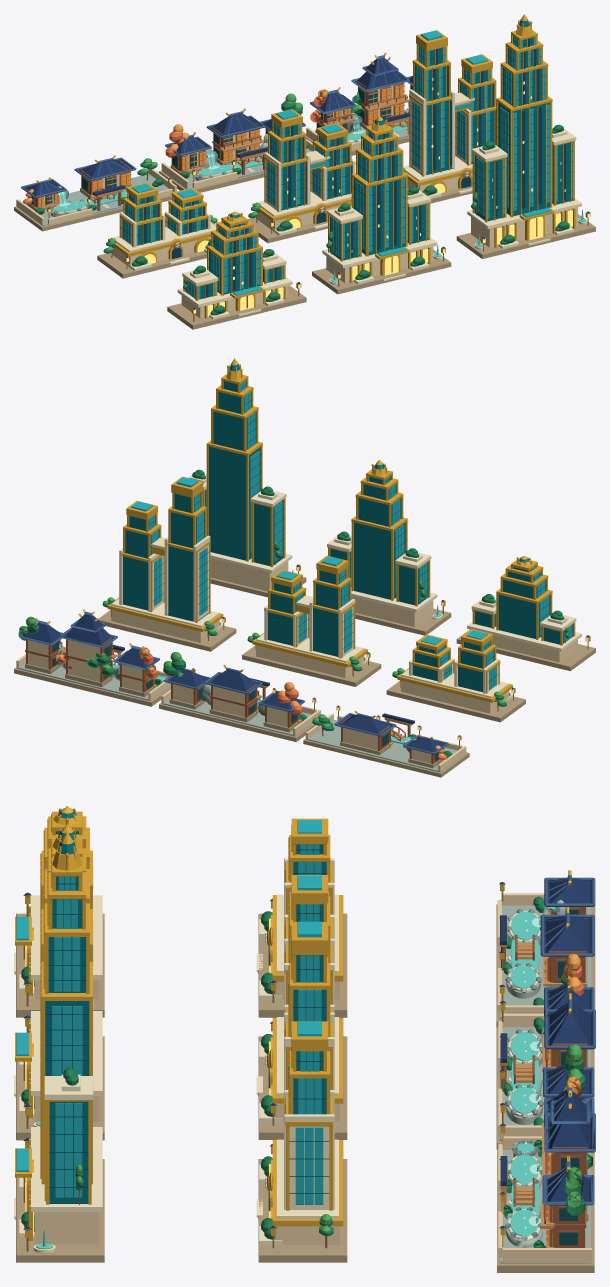
The model's file is landmarks.glb.
3 views of the same model, one above another, from view 1: azimuth 30°, elevation 25°; view 2: azimuth 150°, elevation 25°; view 3: azimuth 270°, elevation 25° (orthographic). The views are drawn at different scales.
Visible parts, largest first — view 1: skyscraper_3_geometry, skyscraper_2_geometry, finance_3_geometry, finance_2_geometry, skyscraper_1_geometry, finance_1_geometry, onsen_2_geometry, onsen_1_geometry, onsen_3_geometry; view 2: finance_3_geometry, skyscraper_3_geometry, skyscraper_2_geometry, finance_2_geometry, onsen_3_geometry, skyscraper_1_geometry, finance_1_geometry, onsen_2_geometry, onsen_1_geometry; view 3: skyscraper_3_geometry, finance_3_geometry, onsen_3_geometry, onsen_2_geometry, onsen_1_geometry, finance_1_geometry, finance_2_geometry, skyscraper_1_geometry, skyscraper_2_geometry.
Part boxes in pixels (left/top/right/bottom): skyscraper_3_geometry: left=456, top=14, right=595, bottom=258; skyscraper_2_geometry: left=312, top=115, right=451, bottom=294; finance_3_geometry: left=403, top=30, right=496, bottom=203; finance_2_geometry: left=248, top=109, right=355, bottom=243; skyscraper_1_geometry: left=167, top=211, right=306, bottom=329; finance_1_geometry: left=97, top=182, right=217, bottom=278; onsen_2_geometry: left=159, top=93, right=315, bottom=192; onsen_1_geometry: left=14, top=155, right=176, bottom=231; onsen_3_geometry: left=306, top=52, right=412, bottom=155; finance_3_geometry: left=98, top=476, right=236, bottom=651; skyscraper_3_geometry: left=188, top=358, right=306, bottom=597; skyscraper_2_geometry: left=327, top=460, right=451, bottom=635; finance_2_geometry: left=242, top=555, right=381, bottom=686; onsen_3_geometry: left=14, top=609, right=170, bottom=706; skyscraper_1_geometry: left=456, top=555, right=595, bottom=671; finance_1_geometry: left=386, top=629, right=525, bottom=722; onsen_2_geometry: left=159, top=652, right=320, bottom=741; onsen_1_geometry: left=303, top=705, right=469, bottom=777; skyscraper_3_geometry: left=14, top=832, right=104, bottom=1262; finance_3_geometry: left=256, top=921, right=347, bottom=1262; onsen_3_geometry: left=497, top=1076, right=595, bottom=1272; onsen_2_geometry: left=496, top=953, right=595, bottom=1149; onsen_1_geometry: left=496, top=870, right=595, bottom=1027; finance_1_geometry: left=256, top=818, right=347, bottom=1017; finance_2_geometry: left=256, top=875, right=347, bottom=1139; skyscraper_1_geometry: left=14, top=806, right=104, bottom=1017; skyscraper_2_geometry: left=14, top=824, right=104, bottom=1140.
Bounding box in the file's own units: 8.12 × 4 × 5.52.
